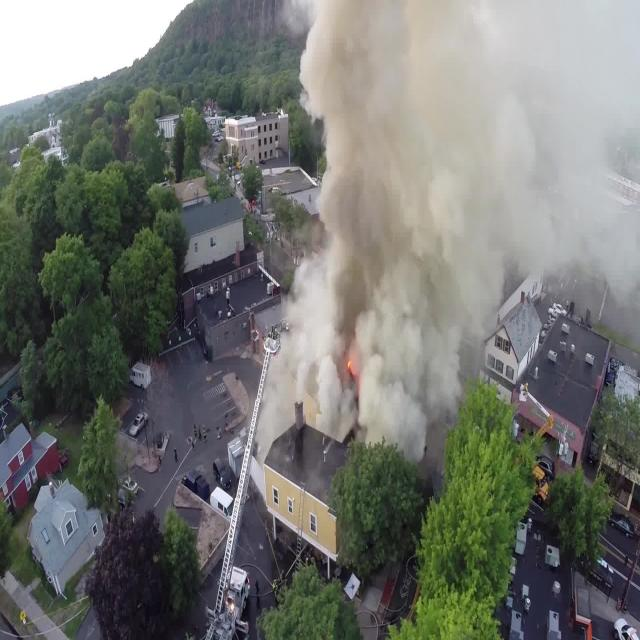Fire: (339, 333, 370, 406)
Smoke: (258, 0, 634, 472)
